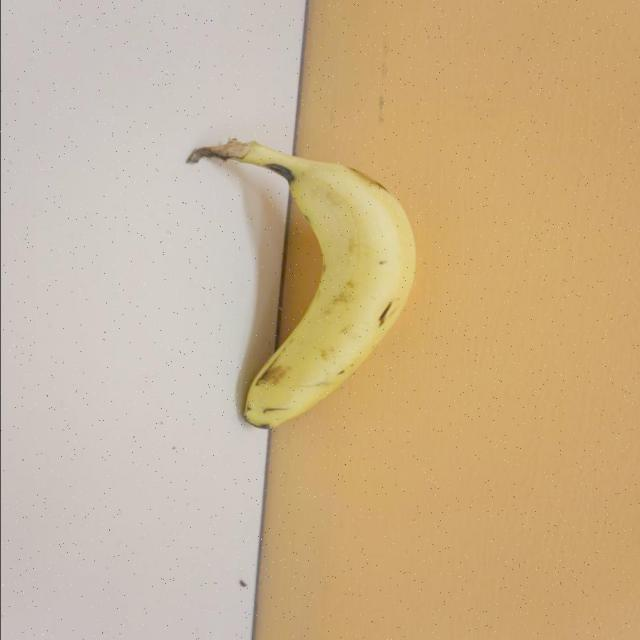Banana: (184, 139, 414, 429)
